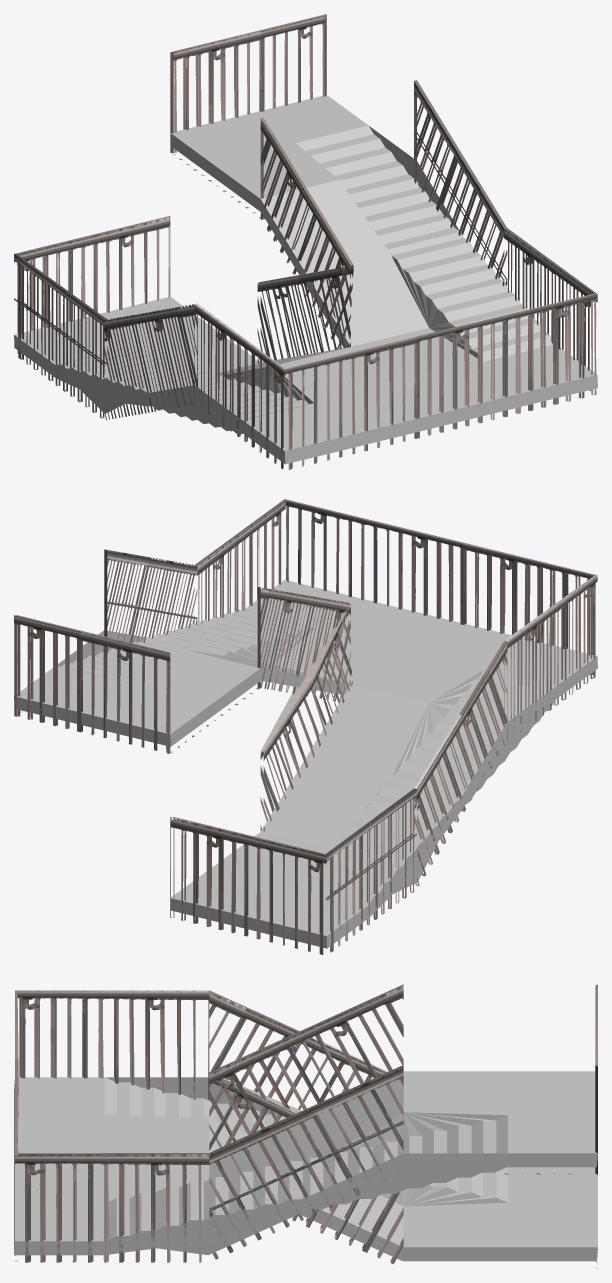
The model's file is yk_stairwell_B.fbx.
3 views of the same model, one above another, from view 1: azimuth 30°, elevation 25°; view 2: azimuth 150°, elevation 25°; view 3: azimuth 270°, elevation 25° (orthographic). The views are drawn at different scales.
Visible parts, largest first — view 1: stairwell, stairwell_kaide; view 2: stairwell, stairwell_kaide; view 3: stairwell, stairwell_kaide.
Boxes of the visible parts, x1,y1,x2,y2 form: stairwell: [14, 95, 597, 464]; stairwell_kaide: [14, 14, 597, 469]; stairwell: [14, 580, 597, 948]; stairwell_kaide: [14, 499, 597, 954]; stairwell: [14, 1071, 597, 1261]; stairwell_kaide: [15, 984, 597, 1268].
Size of the model in its own units: 400 by 323 by 601.
